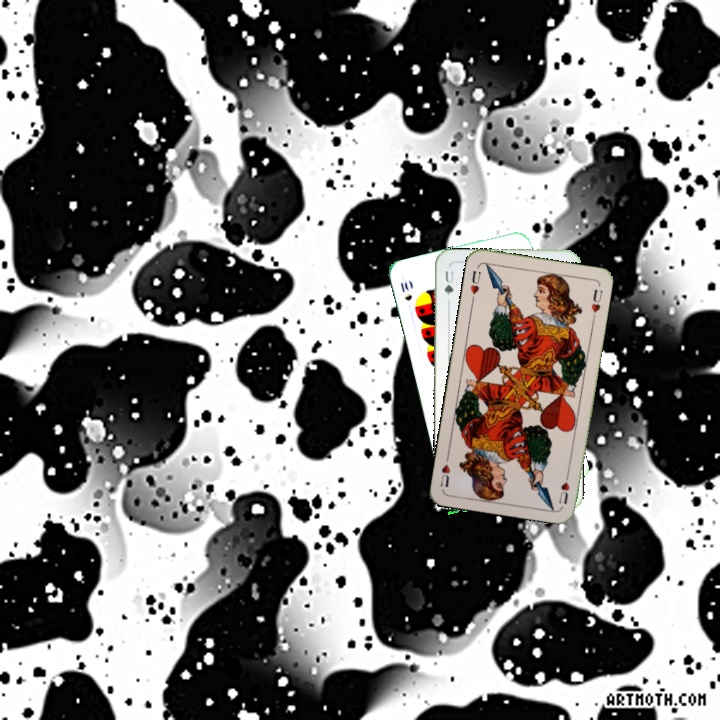GU: (440, 266, 456, 298)
HU: (555, 468, 572, 506), (466, 266, 483, 303)
S10: (396, 276, 414, 303)
